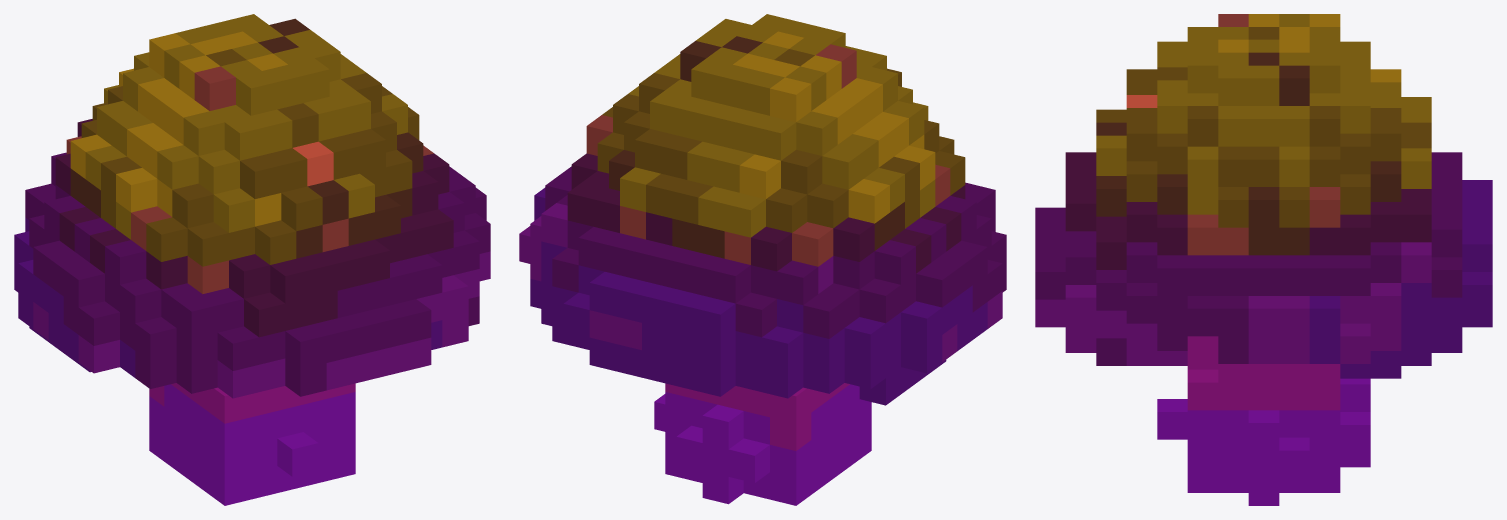
The model's file is overseer-mushroom-1-named-nodes.glb.
3 views of the same model, side by side, from view 1: azimuth 30°, elevation 25°; view 2: azimuth 150°, elevation 25°; view 3: azimuth 270°, elevation 25° (orthographic).
Visible parts, largest first — view 1: geometry_0; view 2: geometry_0; view 3: geometry_0.
Part boxes in pixels (bbox=[...]): geometry_0: bbox=[14, 14, 490, 505]; geometry_0: bbox=[519, 14, 1006, 505]; geometry_0: bbox=[1035, 14, 1492, 505].
Bounding box in the file's own units: 0.8281 × 0.8281 × 0.8281.
Materials: 1 (1 with a texture image).
